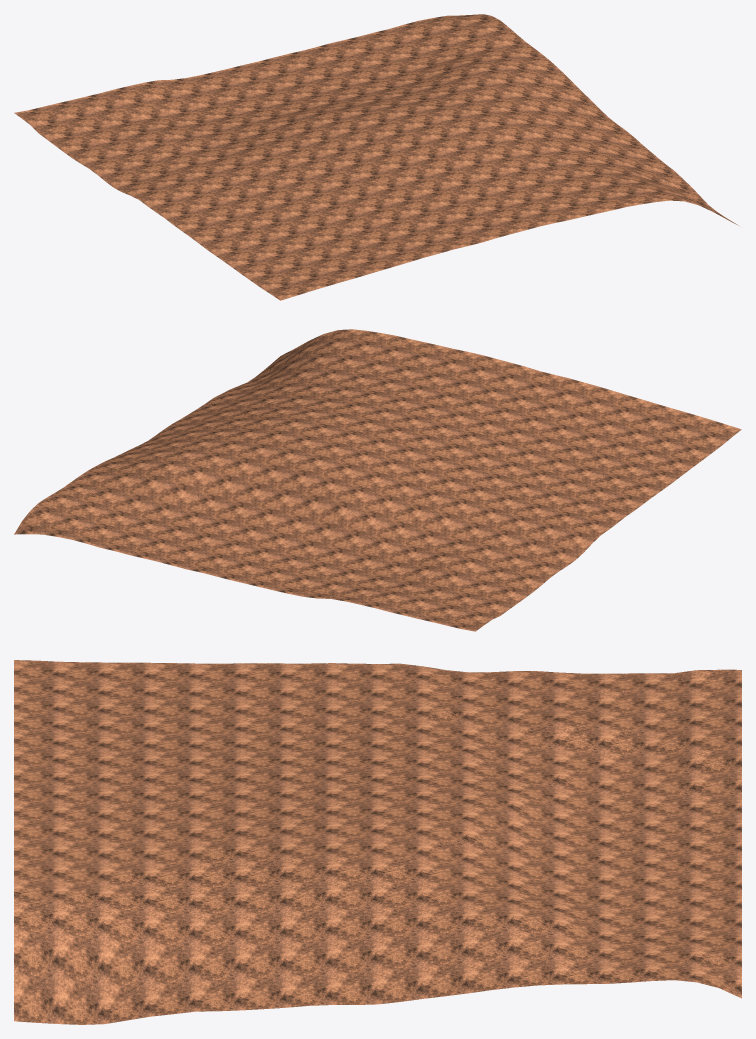
Rendered from terrain_05_16.dae.
The picture shows the model from 3 angles, top to bottom: view 1: azimuth 30°, elevation 25°; view 2: azimuth 150°, elevation 25°; view 3: azimuth 270°, elevation 25°; orthographic projection. The views are drawn at different scales.
Visible parts, largest first — view 1: terrain_05_16-node; view 2: terrain_05_16-node; view 3: terrain_05_16-node.
Boxes of the visible parts, box(x1,y1,x2,y2) form: terrain_05_16-node: box(14, 14, 738, 300); terrain_05_16-node: box(14, 329, 741, 631); terrain_05_16-node: box(14, 660, 741, 1024).
Size of the model in its own units: 128 by 128 by 14.21.
Materials: 1 (1 with a texture image).
